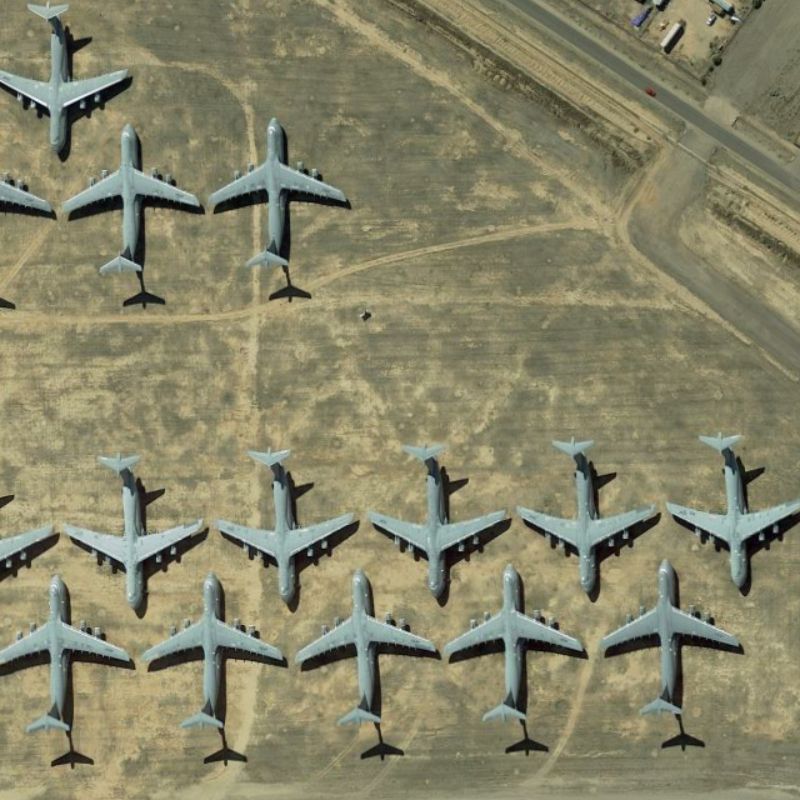A4: (59, 447, 212, 617), (203, 114, 359, 278), (519, 429, 671, 597), (139, 573, 292, 739), (447, 557, 593, 730), (366, 437, 513, 606), (291, 566, 443, 729), (217, 442, 362, 612), (666, 416, 799, 598), (60, 123, 204, 286), (1, 570, 134, 742), (605, 559, 745, 719), (1, 2, 136, 161)
